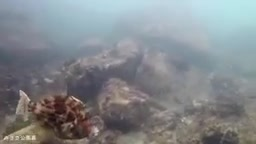kawahagi: (18, 90, 102, 141)
